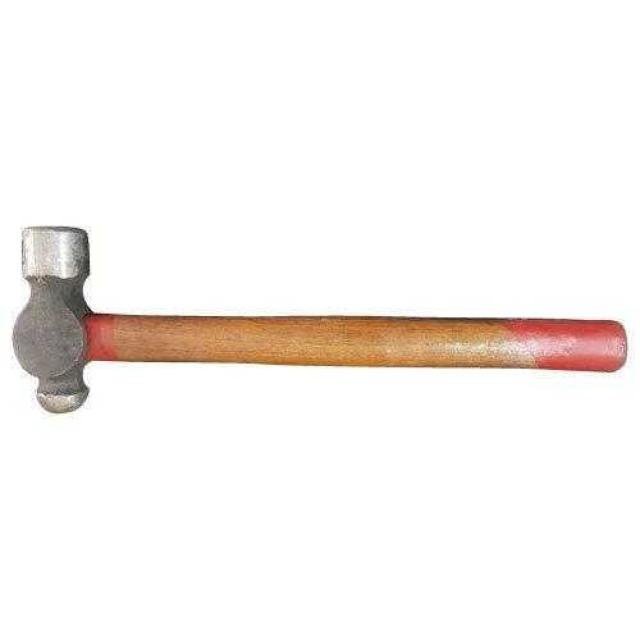hammer: (9, 206, 632, 441)
